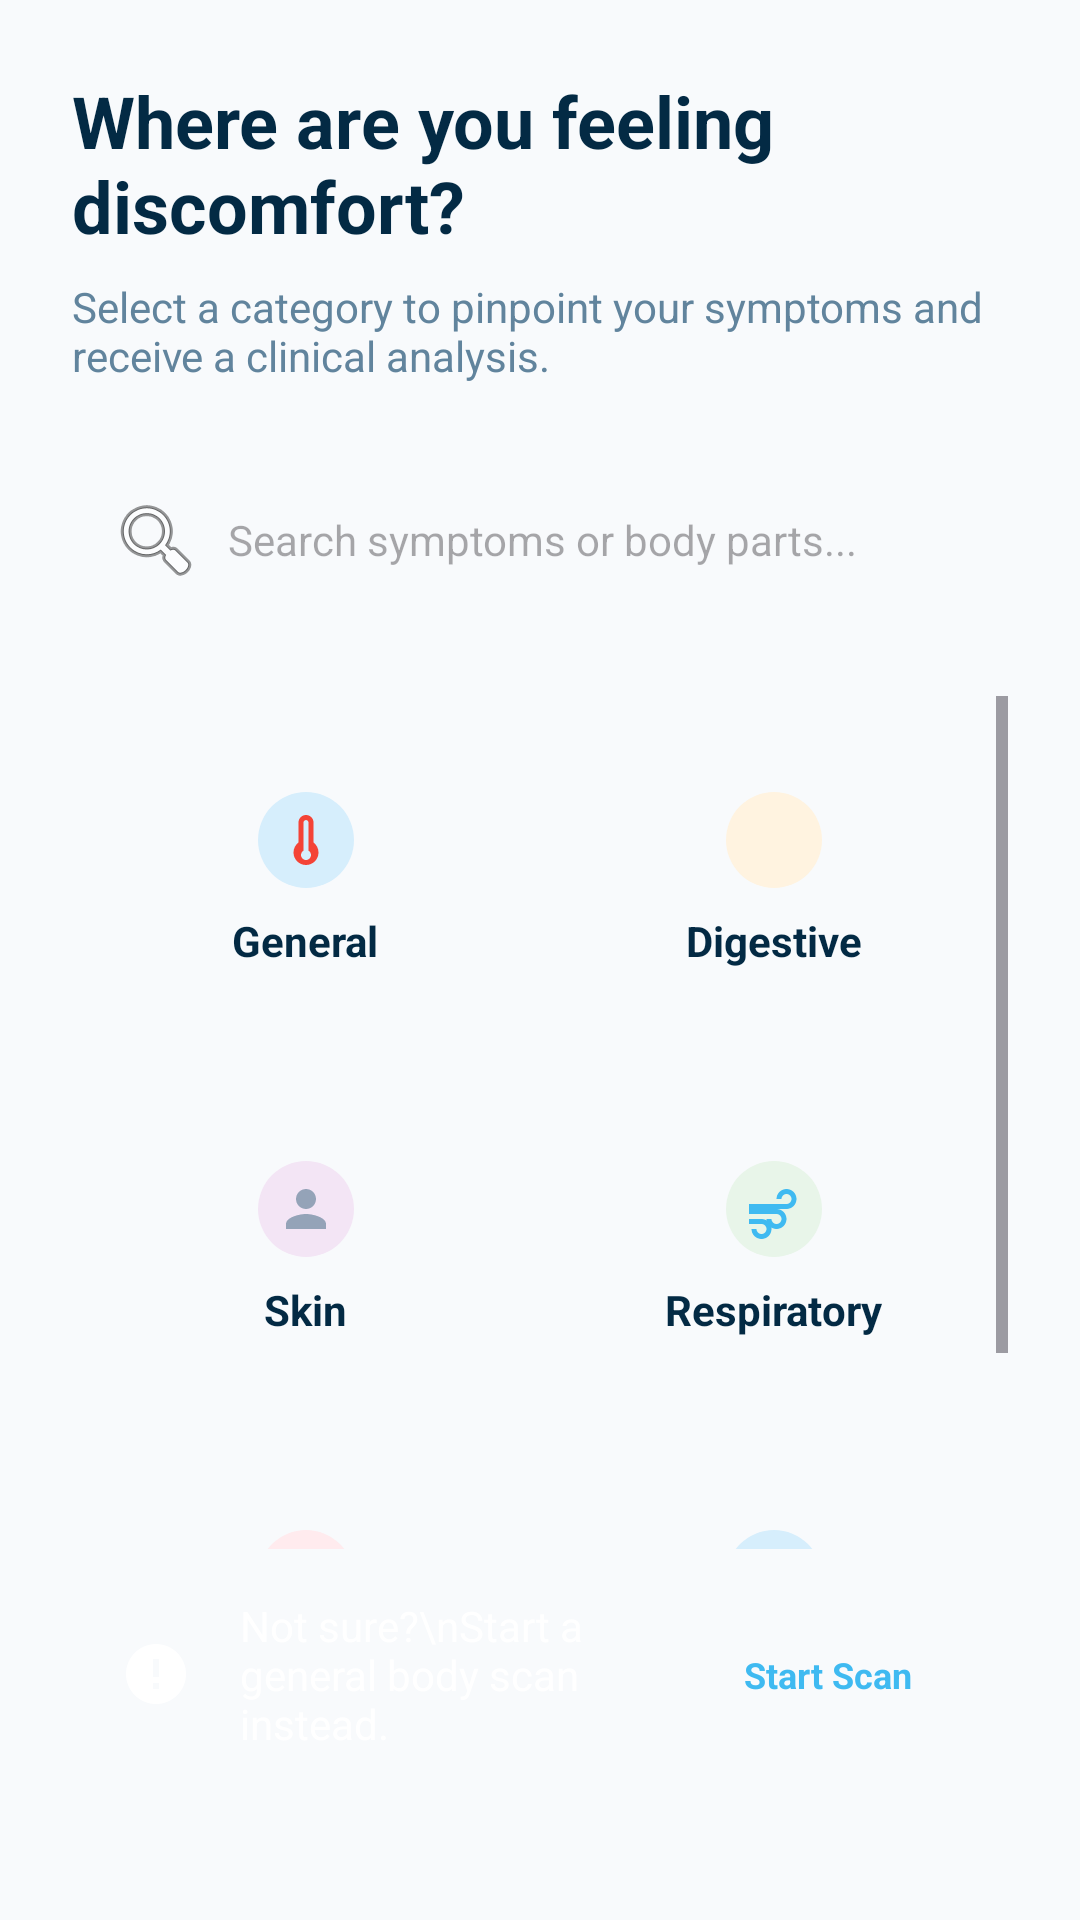

Where to tap for icons on this 1080 x 1920 app screen, as point (x, y):
person: point (306, 1209)
thermometer: point (306, 840)
wind: point (774, 1209)
